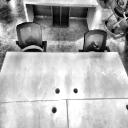chair_fail: (16, 22, 46, 52), (79, 29, 110, 52)
